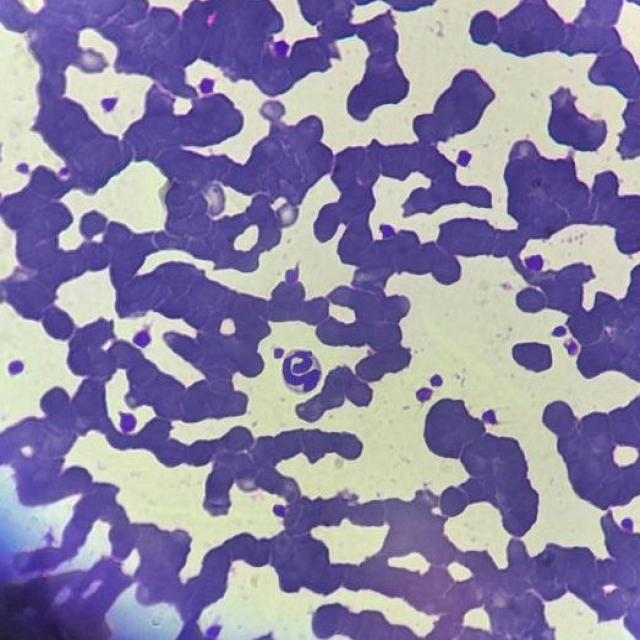Neutrofilo: (281, 348, 322, 392)
